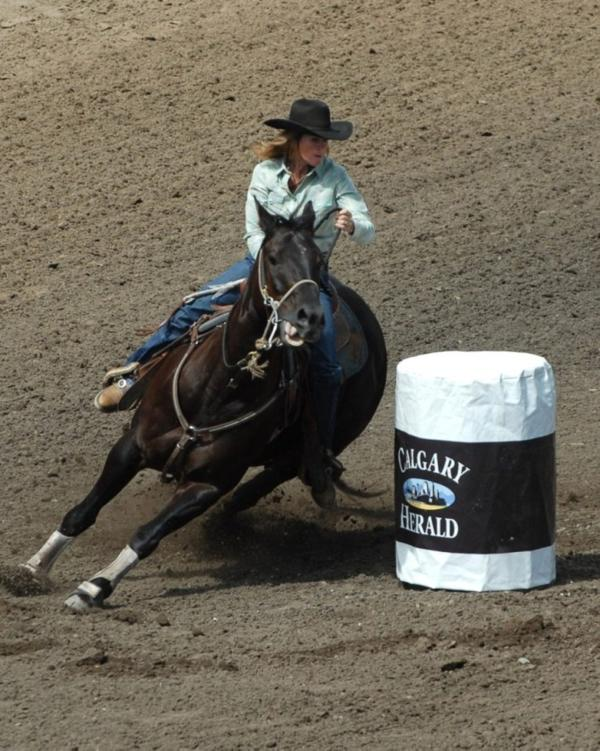person: (93, 96, 376, 512)
